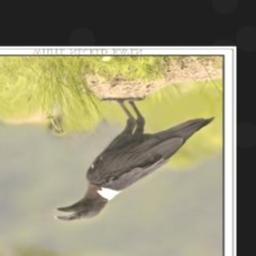Crow: (52, 95, 217, 222)
